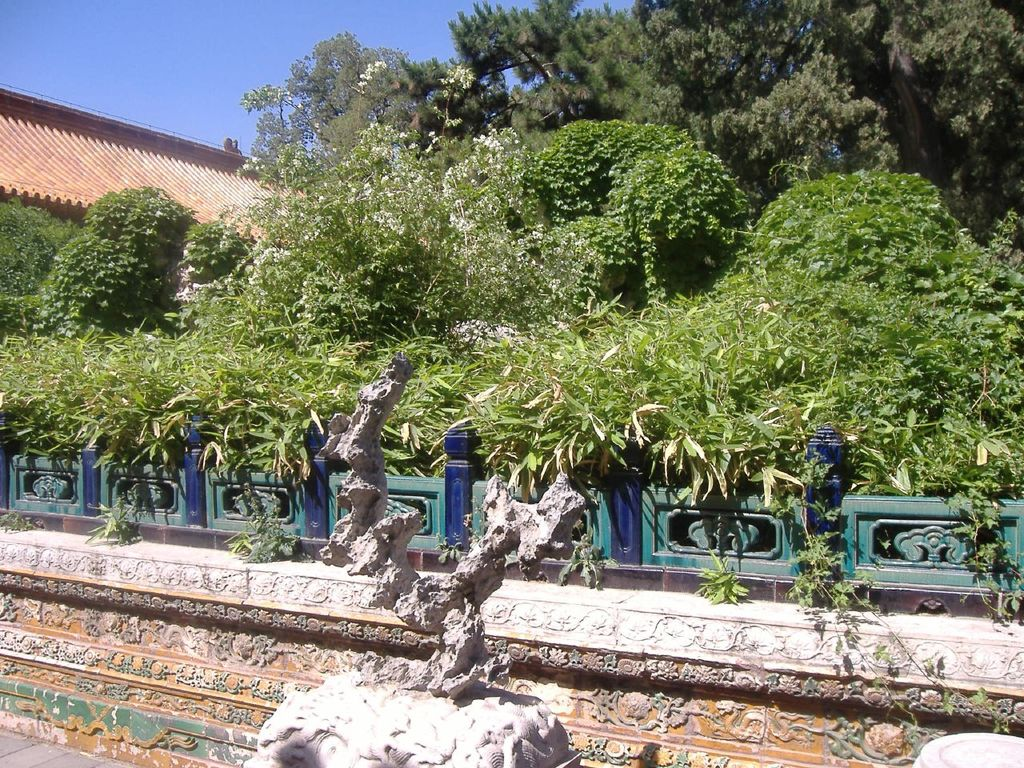Tree: (0, 0, 1023, 767), (38, 174, 206, 334)
